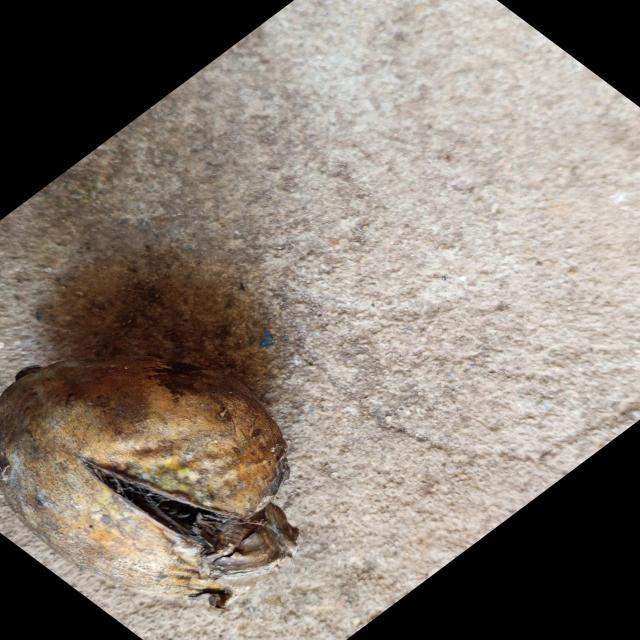damaged: (0, 357, 299, 609)
